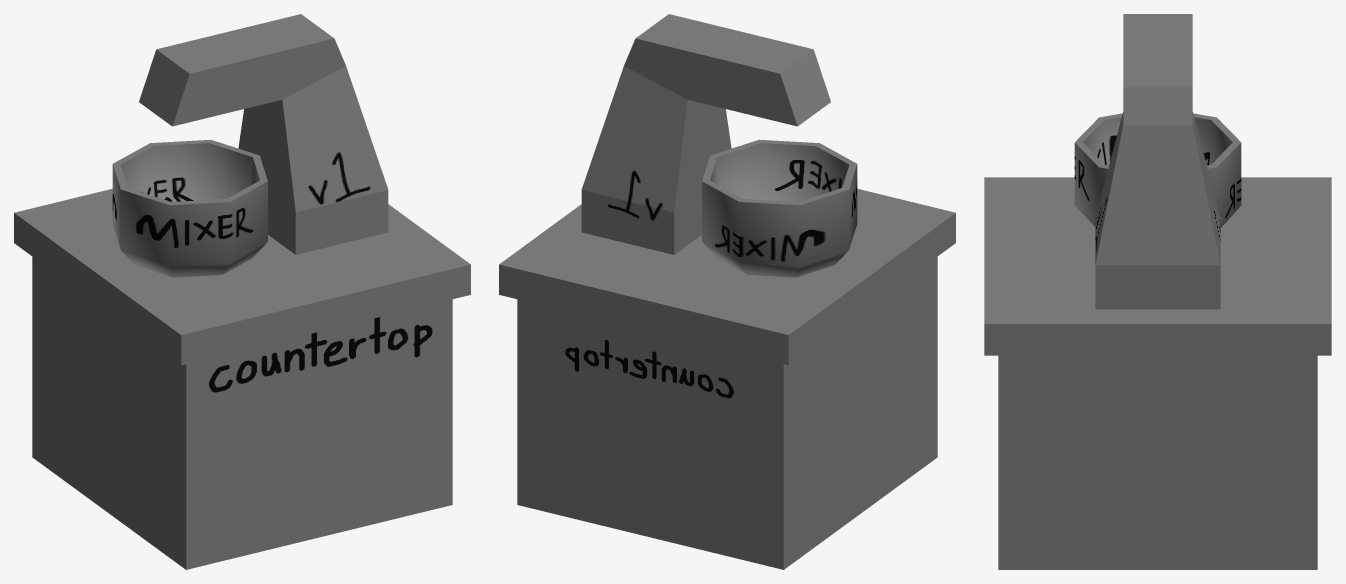
Rendered from furni_mixer_0.glb.
The picture shows the model from 3 angles, left to right: view 1: azimuth 30°, elevation 25°; view 2: azimuth 150°, elevation 25°; view 3: azimuth 270°, elevation 25°; orthographic projection. The views are drawn at different scales.
Parts seen in each view (by area): view 1: counter, mixer; view 2: counter, mixer; view 3: counter, mixer.
Boxes of the visible parts, bbox=[...] form: counter: bbox=[14, 188, 470, 569]; mixer: bbox=[112, 14, 388, 277]; counter: bbox=[499, 188, 955, 569]; mixer: bbox=[581, 14, 857, 277]; counter: bbox=[984, 177, 1331, 569]; mixer: bbox=[1074, 14, 1241, 309].
Size of the model in its own units: 1 by 1.44 by 1.
Materials: 2 (2 with a texture image).
